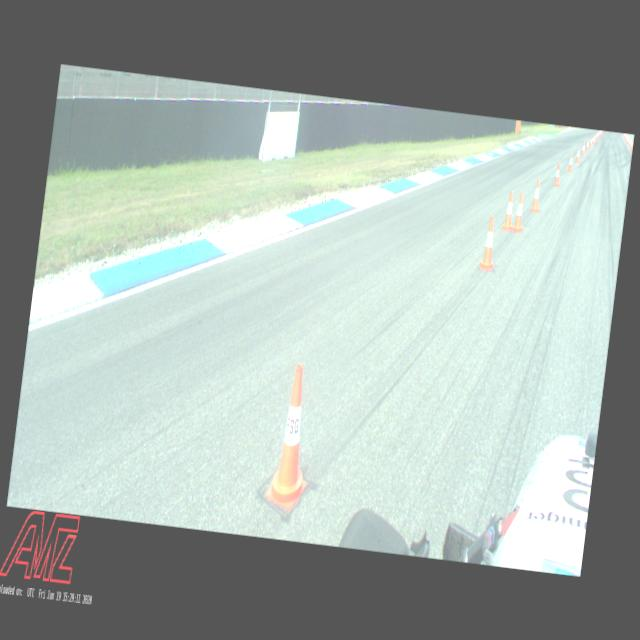orange_cone: (264, 363, 320, 511), (479, 214, 499, 269), (502, 190, 516, 230), (512, 192, 526, 232), (530, 178, 542, 212), (552, 162, 562, 186), (566, 152, 574, 172), (574, 146, 580, 162), (580, 142, 586, 156), (585, 138, 590, 150), (628, 136, 632, 146), (626, 134, 630, 144), (594, 131, 598, 140), (590, 136, 592, 146), (592, 134, 594, 144), (630, 138, 632, 148)
